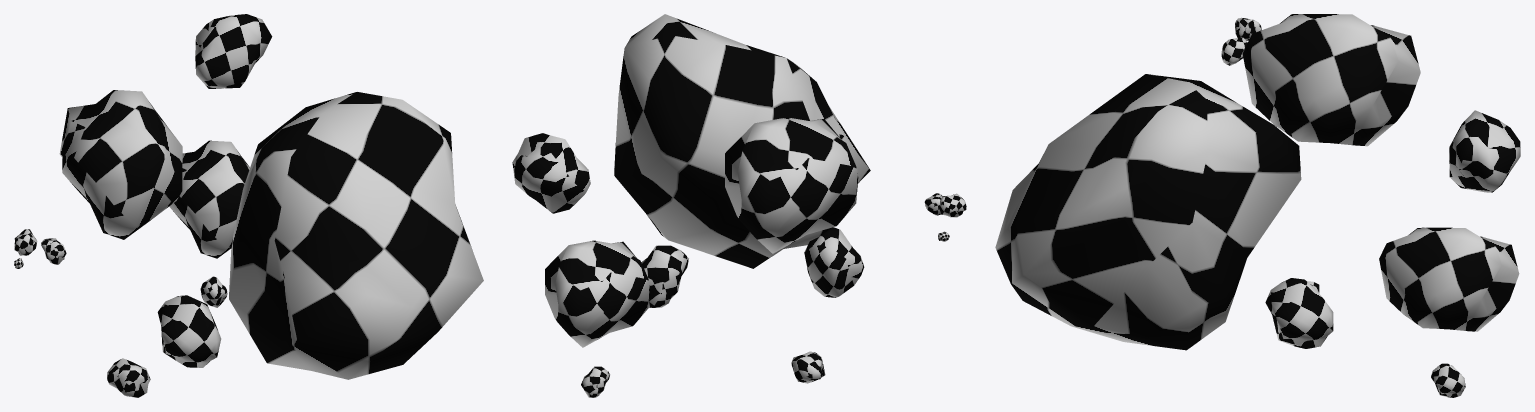
The model's file is cluster_mars_small_asteroid03.obj.
3 views of the same model, side by side, from view 1: azimuth 30°, elevation 25°; view 2: azimuth 150°, elevation 25°; view 3: azimuth 270°, elevation 25° (orthographic). The views are drawn at different scales.
Parts seen in each view (by area): view 1: cluster; view 2: cluster; view 3: cluster.
Part boxes in pixels (x1,y1,x2,y2): cluster: [14, 14, 483, 397]; cluster: [512, 14, 966, 397]; cluster: [995, 14, 1520, 397].
Size of the model in its own units: 892 by 628 by 945.
1 material, 1 textured.
